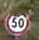limite 50: (3, 10, 30, 35)
